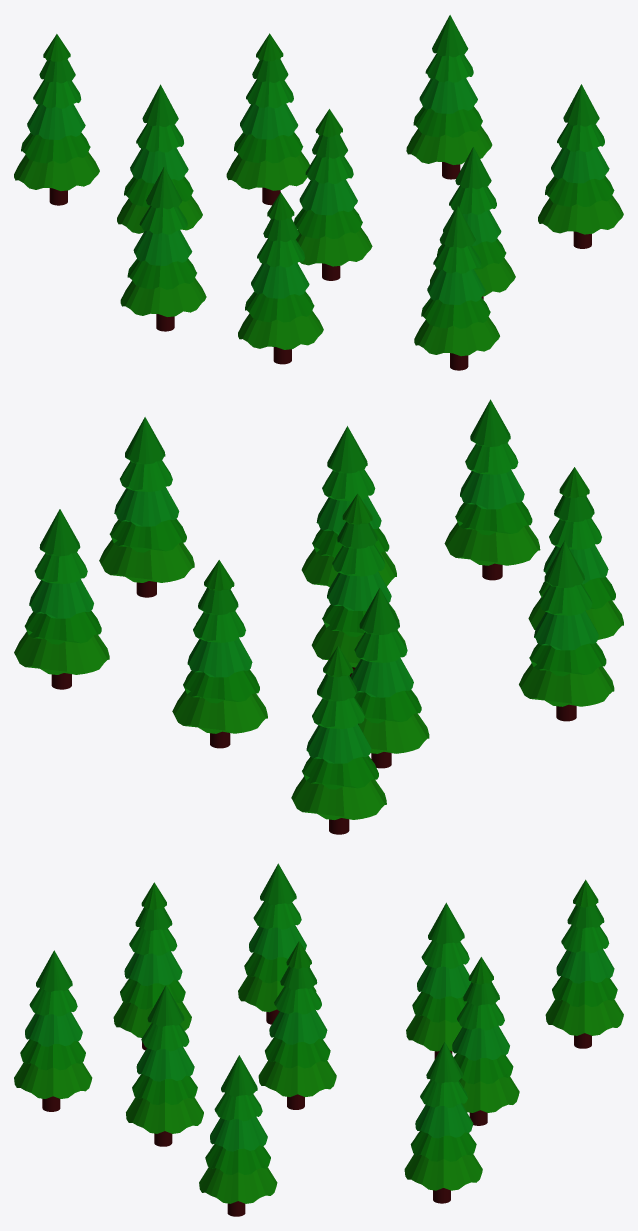
Rendered from Tree Group 1.fbx.
3 views of the same model, one above another, from view 1: azimuth 30°, elevation 25°; view 2: azimuth 150°, elevation 25°; view 3: azimuth 270°, elevation 25° (orthographic). The views are drawn at different scales.
Visible parts, largest first — view 1: Cone.027, Cone.032, Cone.037, Cone.002, Cone.051, Cone.022, Cone.042, Cone.012, Cone.026, Cone.003, Cone.013, Cone.043 (+38 smaller); view 2: Cone.027, Cone.022, Cone.042, Cone.051, Cone.002, Cone.032, Cone.017, Cone.023, Cone.033, Cone.003, Cone.026, Cone.050 (+38 smaller); view 3: Cone.027, Cone.042, Cone.051, Cone.012, Cone.032, Cone.007, Cone.022, Cone.036, Cone.013, Cone.033, Cone.006, Cone.050 (+38 smaller).
Part boxes in pixels (x1,y1,x2,y2): Cone.027: (538,195,623,234); Cone.032: (414,317,499,356); Cone.037: (238,311,323,349); Cone.002: (120,278,206,316); Cone.051: (14,152,99,190); Cone.022: (226,151,309,190); Cone.042: (406,126,492,164); Cone.012: (296,227,372,266); Cone.026: (551,147,609,183); Cone.003: (133,230,192,265); Cone.013: (299,179,357,215); Cone.043: (419,78,477,113); Cone.027: (99,539,194,582); Cone.022: (172,690,267,733); Cone.042: (14,631,109,674); Cone.051: (291,776,386,819); Cone.002: (519,663,614,706); Cone.032: (444,522,540,565); Cone.017: (358,713,429,753); Cone.023: (187,637,252,677); Cone.033: (460,469,524,509); Cone.003: (534,610,598,650); Cone.026: (114,486,179,526); Cone.050: (306,723,371,763); Cone.027: (199,1167,277,1203); Cone.042: (404,1154,482,1190); Cone.051: (545,999,623,1035); Cone.012: (258,1060,336,1096); Cone.032: (14,1062,92,1098); Cone.007: (126,1097,203,1133); Cone.022: (459,1076,519,1112); Cone.036: (124,951,182,986); Cone.013: (269,1009,327,1044); Cone.033: (25,1011,82,1046); Cone.006: (136,1046,194,1081); Cone.050: (556,948,614,983).
Size of what is drawn, in the model's own units: 11265 by 3797 by 12702.
